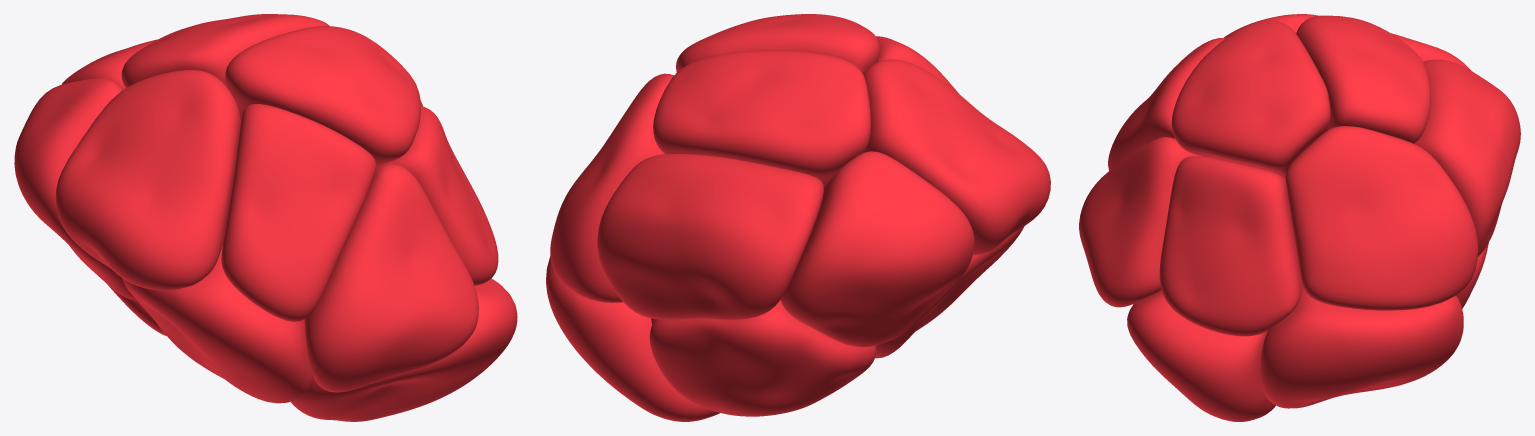
The picture shows the model from 3 angles, left to right: view 1: azimuth 30°, elevation 25°; view 2: azimuth 150°, elevation 25°; view 3: azimuth 270°, elevation 25°; orthographic projection. The views are drawn at different scales.
Parts seen in each view (by area): view 1: a1.002, a1.003, a1.013, a1.012, a1.014, a1.004, a1.011, a1.006, a1.010, a1.008, a1.009; view 2: a1.008, a1.011, a1.010, a1.002, a1.009, a1.001, a1.005, a1.012, a1.014, a1.013; view 3: a1.001, a1.006, a1.012, a1.005, a1.003, a1.010, a1.008, a1.004, a1.013, a1.011, a1.002, a1.009.
Part boxes in pixels (x1,y1,x2,y2): a1.002: (55,70,240,290); a1.003: (304,163,478,392); a1.013: (221,104,376,321); a1.012: (225,26,420,166); a1.014: (122,246,312,403); a1.004: (291,278,517,421); a1.011: (14,78,136,300); a1.006: (376,106,498,285); a1.010: (121,14,329,88); a1.008: (62,39,157,89); a1.009: (107,284,166,336); a1.008: (597,154,823,319); a1.011: (780,151,974,347); a1.010: (653,50,870,185); a1.002: (863,59,1050,255); a1.009: (649,300,876,416); a1.001: (550,73,673,302); a1.005: (546,256,719,421); a1.012: (676,14,879,73); a1.014: (875,226,1024,358); a1.013: (876,36,958,93); a1.001: (1285,126,1478,310); a1.006: (1159,156,1301,336); a1.012: (1171,20,1330,179); a1.005: (1260,284,1463,408); a1.003: (1079,137,1201,307); a1.010: (1296,15,1430,143); a1.008: (1414,59,1520,256); a1.004: (1127,290,1275,421); a1.013: (1108,38,1225,170); a1.011: (1391,33,1471,70); a1.002: (1223,14,1319,37); a1.009: (1456,242,1488,308).
Bounding box in the file's own units: 4211 × 3691 × 4272.
